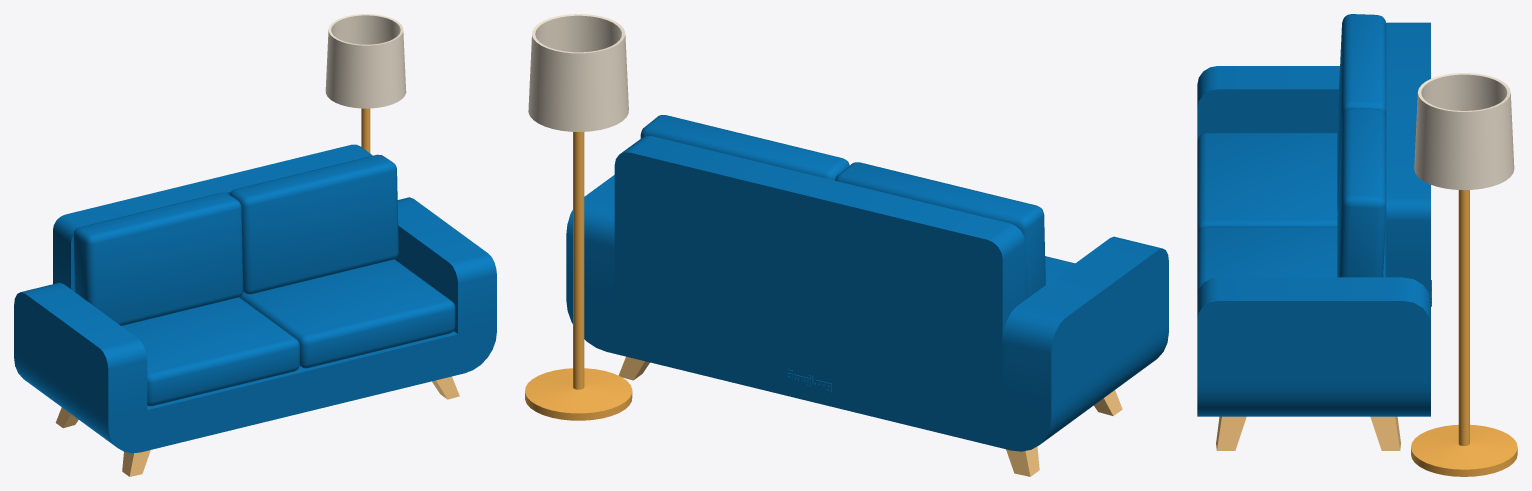
The model's file is couch_and_lamp.fbx.
3 views of the same model, side by side, from view 1: azimuth 30°, elevation 25°; view 2: azimuth 150°, elevation 25°; view 3: azimuth 270°, elevation 25° (orthographic). The views are drawn at different scales.
Visible parts, largest first — view 1: Cube.239; view 2: Cube.239; view 3: Cube.239.
Boxes of the visible parts, x1,y1,x2,y2 form: Cube.239: (14, 14, 496, 476); Cube.239: (525, 14, 1168, 476); Cube.239: (1197, 14, 1517, 476).
Bounding box in the file's own units: 228 × 158 × 127.
1 material, 1 textured.
